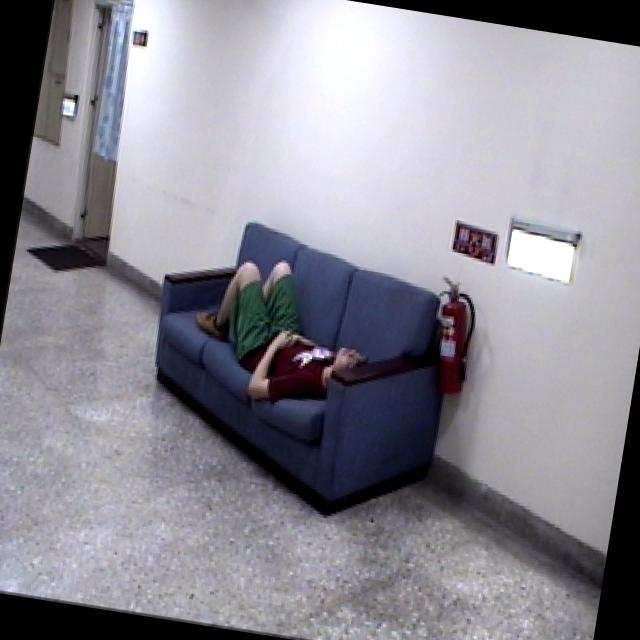lie: (178, 237, 388, 418)
